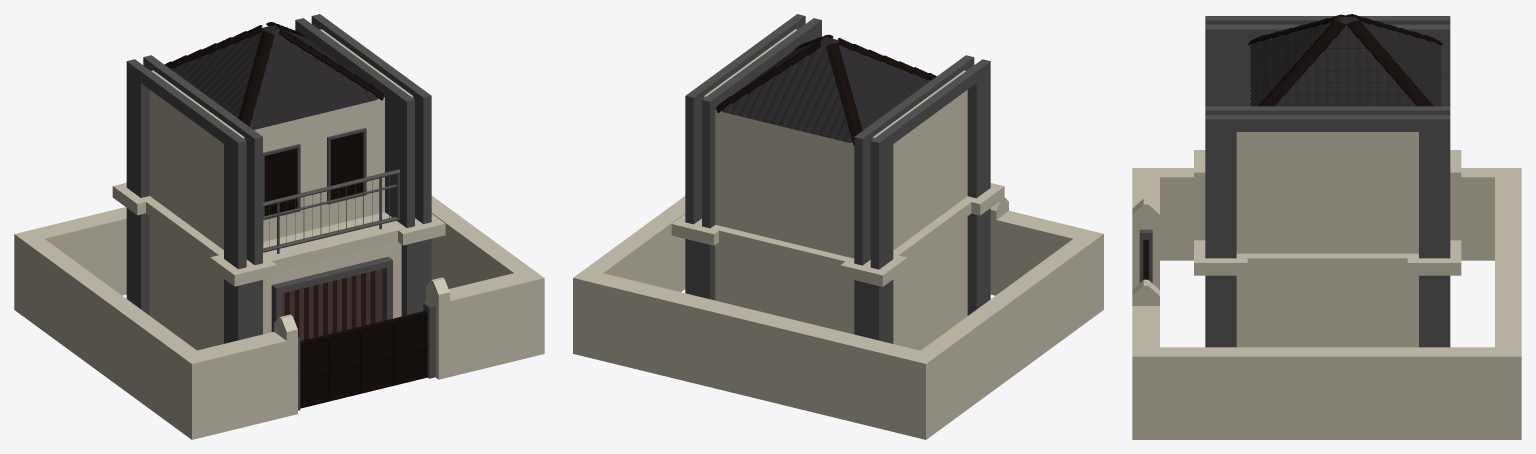
Rendered from rumah mc gerbang 2.fbx.
The picture shows the model from 3 angles, left to right: view 1: azimuth 30°, elevation 25°; view 2: azimuth 150°, elevation 25°; view 3: azimuth 270°, elevation 25°; orthographic projection. The views are drawn at different scales.
Visible parts, largest first — view 1: Plane.013, Plane, Plane.012, Plane.015, Plane.004, Plane.011, Plane.009, Plane.006, Plane.008, Plane.002, Plane.014, Plane.003 (+1 smaller); view 2: Plane.013, Plane, Plane.012, Plane.007, Plane.006, Plane.008; view 3: Plane.013, Plane, Plane.012, Plane.005, Plane.008, Plane.004, Plane.007, Plane.014, Plane.010.
Part boxes in pixels (x1,y1,x2,y2): Plane.013: [14, 196, 544, 439]; Plane: [112, 29, 445, 350]; Plane.012: [126, 14, 431, 343]; Plane.015: [300, 311, 427, 408]; Plane.004: [249, 35, 377, 129]; Plane.011: [282, 269, 382, 340]; Plane.009: [263, 128, 366, 220]; Plane.006: [171, 32, 261, 118]; Plane.008: [164, 22, 384, 126]; Plane.002: [263, 169, 399, 252]; Plane.014: [298, 302, 435, 410]; Plane.003: [263, 178, 396, 253]; Plane.013: [573, 196, 1103, 439]; Plane: [671, 29, 1004, 350]; Plane.012: [685, 14, 990, 343]; Plane.007: [722, 47, 851, 142]; Plane.006: [838, 45, 930, 130]; Plane.008: [716, 34, 936, 145]; Plane.013: [1132, 168, 1521, 439]; Plane: [1194, 132, 1461, 347]; Plane.012: [1205, 16, 1450, 347]; Plane.005: [1276, 25, 1415, 106]; Plane.008: [1248, 14, 1442, 106]; Plane.004: [1250, 21, 1333, 106]; Plane.007: [1358, 20, 1441, 106]; Plane.014: [1139, 229, 1152, 283]; Plane.010: [1253, 17, 1429, 106].
Bounding box in the file's own units: 1605 × 1300 × 1400.
